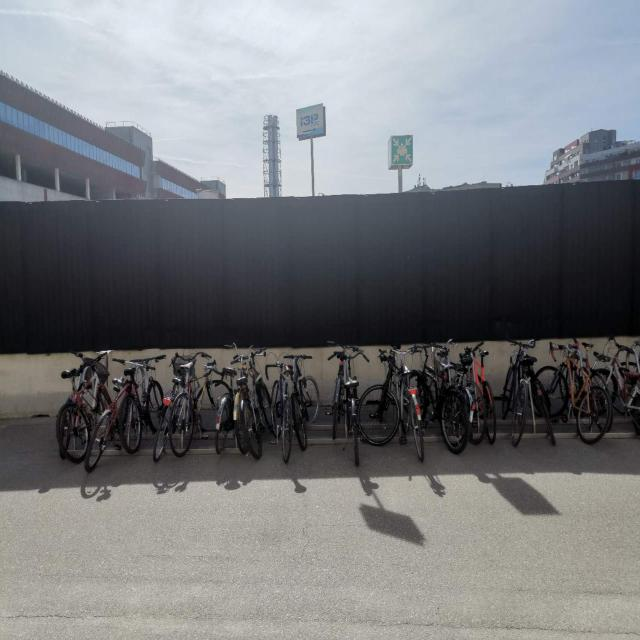Bicycle: (533, 339, 605, 462), (409, 313, 460, 475), (44, 324, 96, 466), (433, 329, 487, 459), (374, 339, 421, 481), (498, 314, 540, 461), (589, 325, 640, 445), (168, 340, 215, 469), (225, 344, 273, 466), (117, 339, 159, 464), (330, 342, 367, 473), (288, 343, 330, 452), (266, 353, 296, 478), (215, 344, 236, 466)
